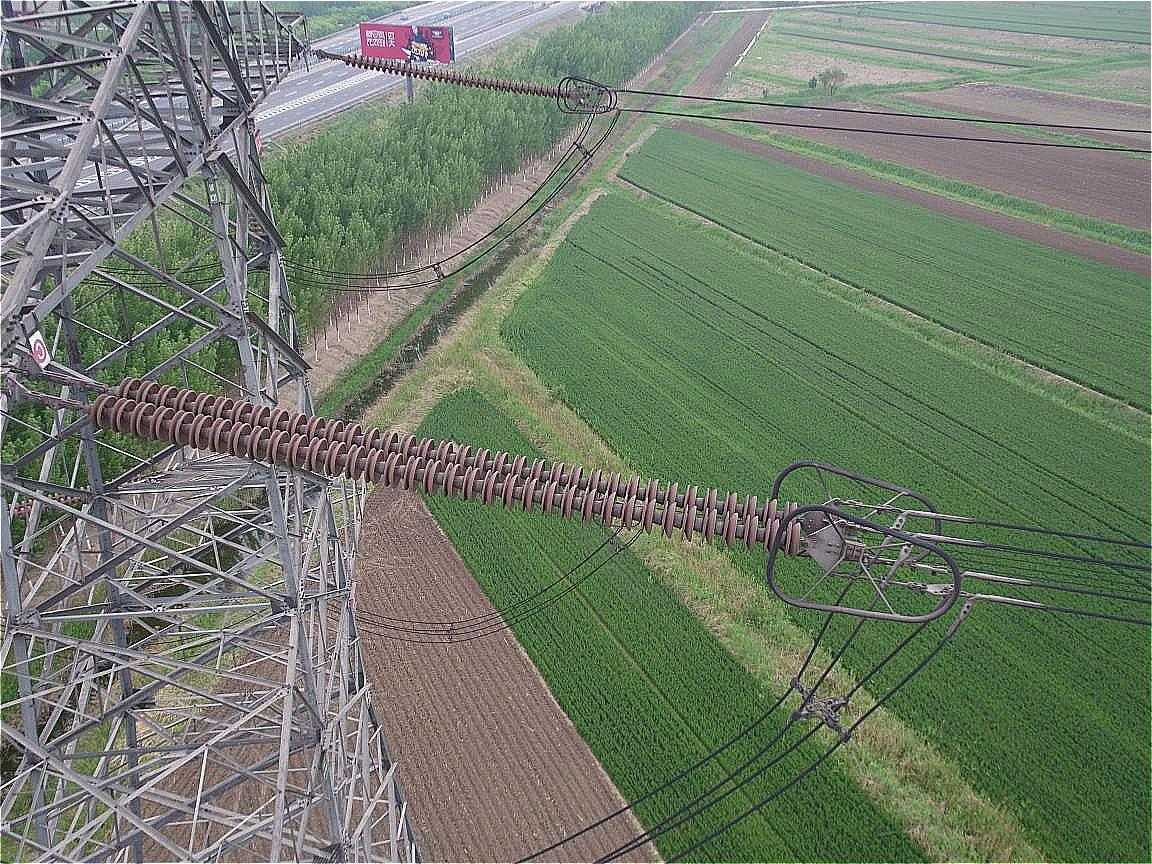insultor1: (346, 54, 573, 101)
insultor2: (90, 376, 803, 558)
